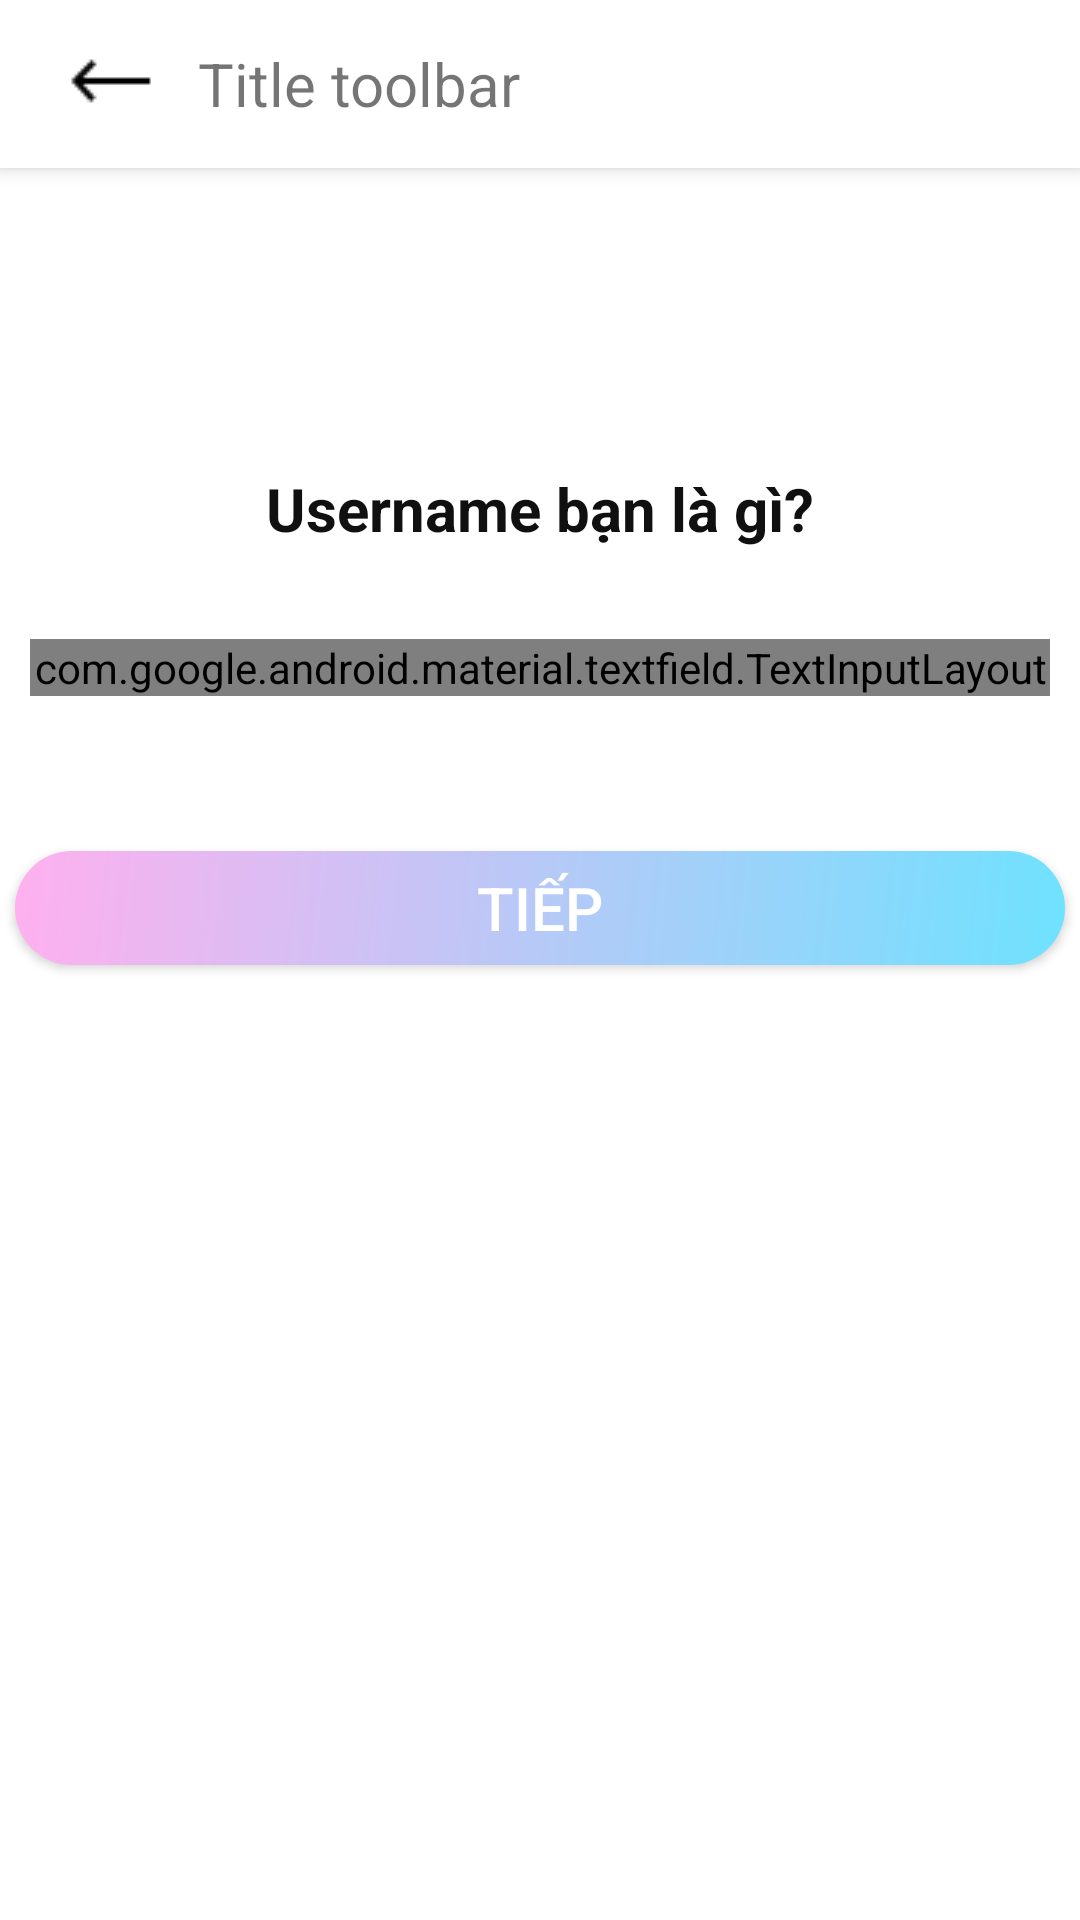

Screen size 1080*1920. Icon name, then its box in pixels as [left=x1, top=y1, right=x2, bottom=y2]:
back toolbar: [left=71, top=59, right=151, bottom=103]
